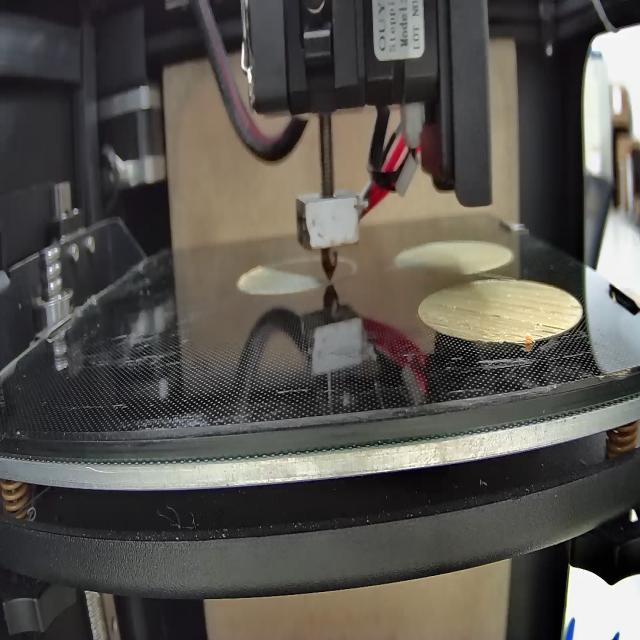under_extrusion: (527, 322, 567, 342), (486, 329, 524, 347), (429, 321, 469, 334), (548, 304, 583, 318), (449, 303, 480, 317), (484, 313, 515, 323)
